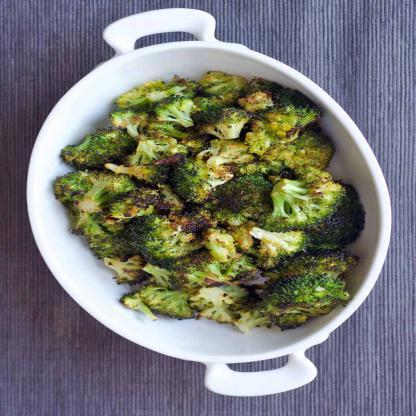broccoli: (50, 69, 365, 334)
